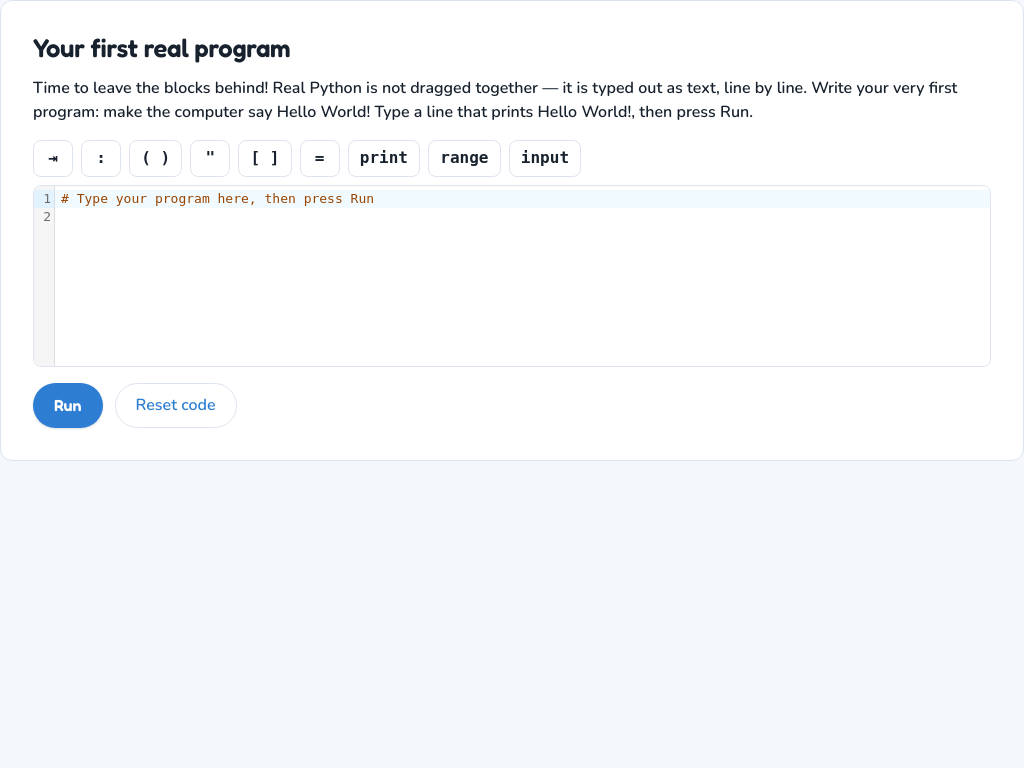
[L1] failure hints surface on the rendered steps › 1.3: wrong text shows a "check the text" hint and never the answer
Click the button "Run": (68, 406) [33, 383, 103, 428]
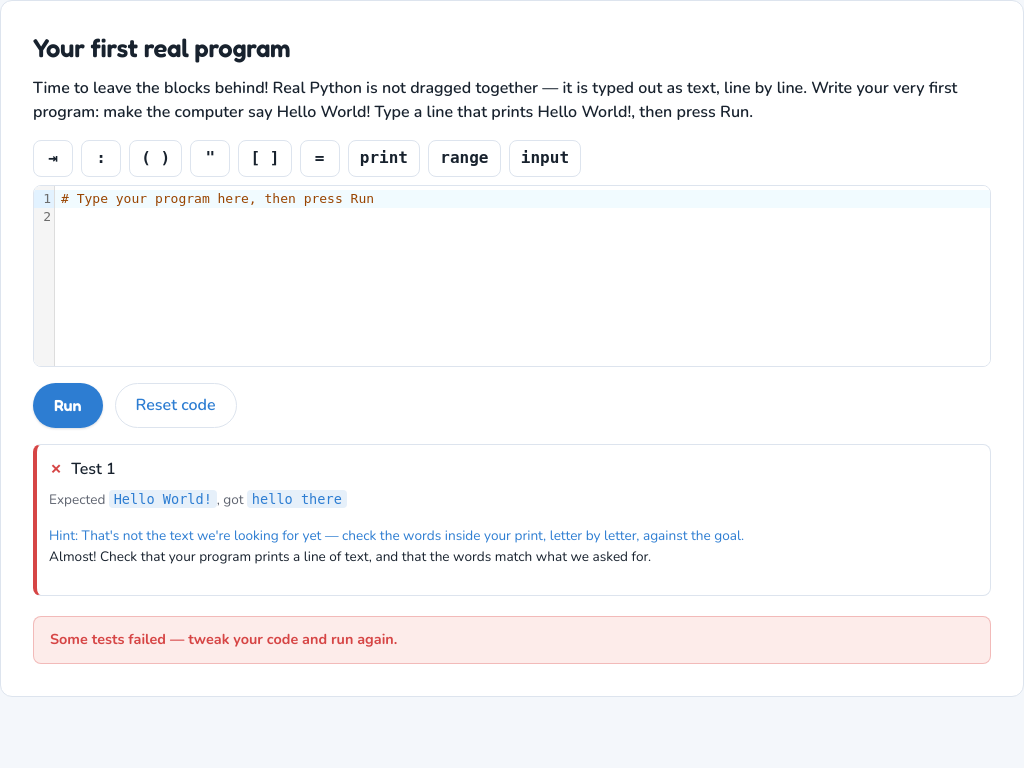
Now the text with class "test-result-hint" shows "text", box [82, 526, 744, 546]
